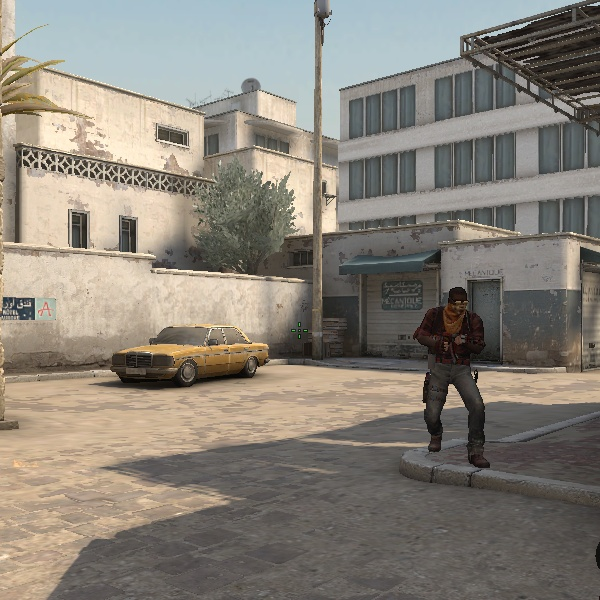t_body: (401, 283, 506, 469)
t_head: (439, 284, 473, 320)
